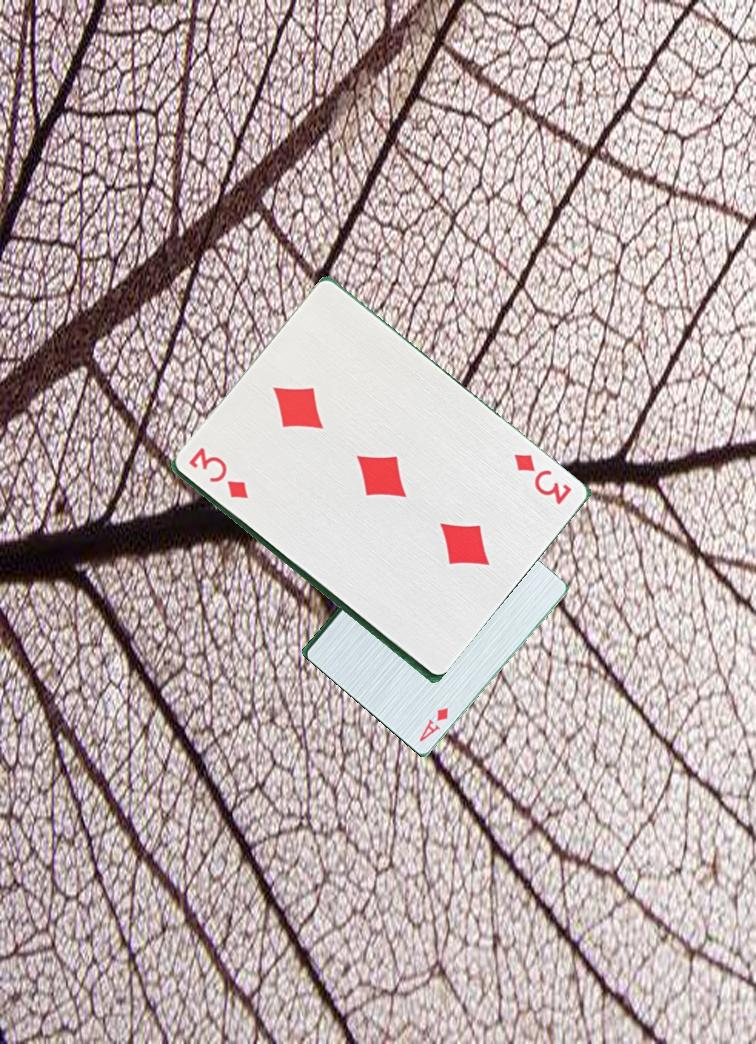3d: (509, 450, 574, 508), (184, 446, 251, 502)
ad: (415, 704, 451, 746)
